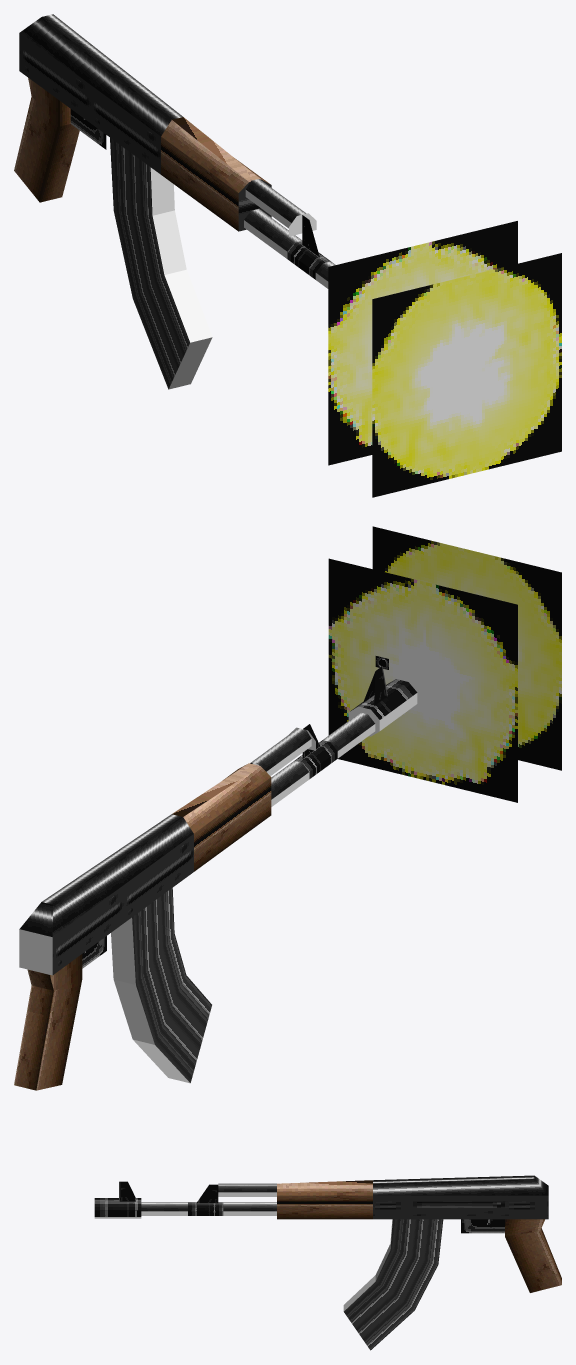
The model's file is muzzle.glb.
3 renders of one model, top to bottom at view 1: azimuth 30°, elevation 25°; view 2: azimuth 150°, elevation 25°; view 3: azimuth 270°, elevation 25°, orthographic. The views are drawn at different scales.
Parts seen in each view (by area): view 1: Room04_primary, Room05_primary, Room0C_primary, Room11_primary, Room0F_secondary, Room0B_secondary, Room17_primary, Room1A_primary; view 2: Room05_primary, Room04_primary, Room11_primary, Room0C_primary, Room0B_secondary, Room0F_secondary, Room17_primary, Room15_primary, Room1A_primary; view 3: Room11_primary, Room0C_primary, Room0F_secondary, Room0B_secondary, Room17_primary, Room15_primary, Room1A_primary, Room0A_secondary, Room19_secondary.
Part boxes in pixels (x1,y1,x2,y2): Room04_primary: [372, 253, 561, 497]; Room05_primary: [328, 221, 517, 465]; Room0C_primary: [110, 138, 212, 389]; Room11_primary: [19, 14, 182, 174]; Room0F_secondary: [161, 117, 270, 231]; Room0B_secondary: [14, 77, 79, 202]; Room17_primary: [244, 209, 335, 288]; Room1A_primary: [245, 179, 316, 236]; Room05_primary: [328, 558, 517, 802]; Room04_primary: [372, 526, 561, 770]; Room11_primary: [19, 814, 193, 975]; Room0C_primary: [111, 888, 211, 1083]; Room0B_secondary: [14, 954, 82, 1090]; Room0F_secondary: [172, 763, 271, 871]; Room17_primary: [271, 712, 375, 806]; Room15_primary: [348, 679, 417, 736]; Room1A_primary: [250, 727, 315, 775]; Room11_primary: [373, 1175, 548, 1219]; Room0C_primary: [343, 1219, 443, 1350]; Room0F_secondary: [277, 1180, 372, 1219]; Room0B_secondary: [505, 1219, 561, 1292]; Room17_primary: [141, 1202, 276, 1215]; Room15_primary: [94, 1198, 141, 1218]; Room1A_primary: [218, 1183, 276, 1196]; Room0A_secondary: [461, 1219, 504, 1233]; Room19_secondary: [196, 1184, 218, 1203].
Bounding box in the file's own units: 212 × 343 × 856.
Materials: 19 (19 with a texture image).
